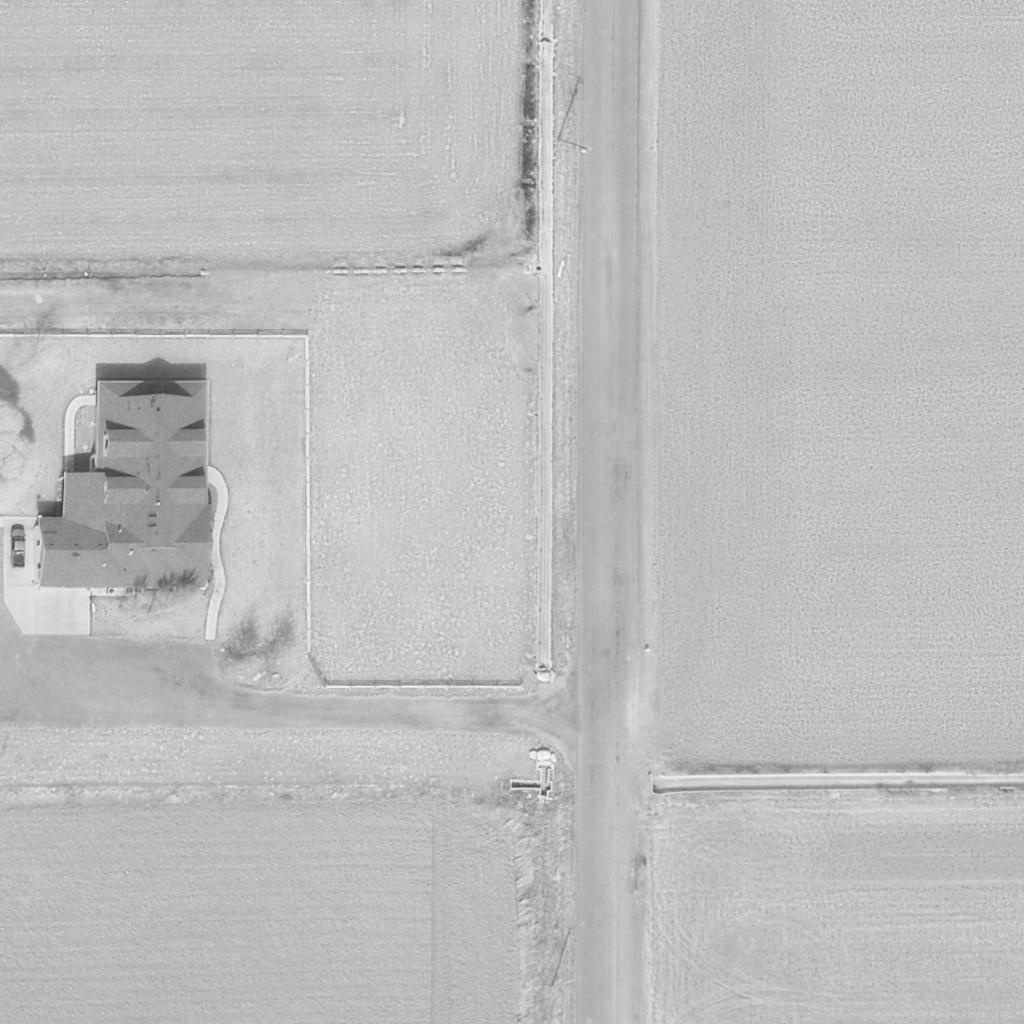vehicle: (9, 526, 27, 570)
